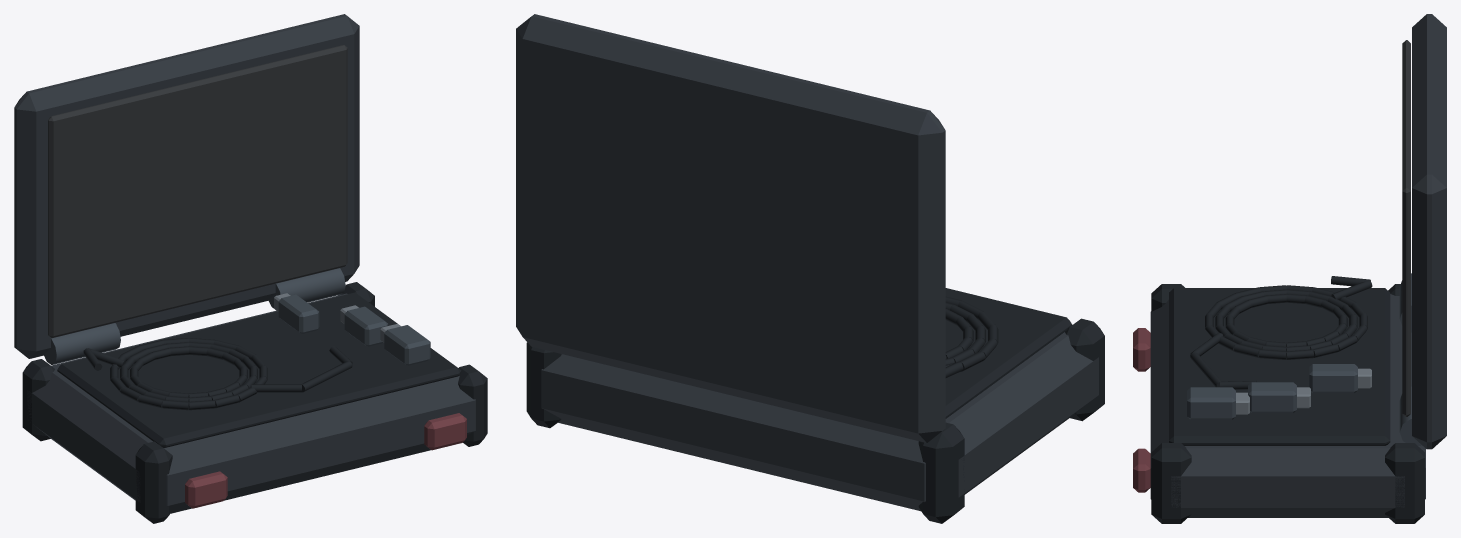
File: interface-kit.glb
3 renders of one model, left to right at view 1: azimuth 30°, elevation 25°; view 2: azimuth 150°, elevation 25°; view 3: azimuth 270°, elevation 25°, orthographic. The views are drawn at different scales.
Parts seen in each view (by area): view 1: interface-kit; view 2: interface-kit; view 3: interface-kit.
Part boxes in pixels (x1=…): interface-kit: x1=14, y1=14, x2=487, y2=523; interface-kit: x1=516, y1=14, x2=1104, y2=523; interface-kit: x1=1133, y1=14, x2=1446, y2=523.
Bounding box in the file's own units: 0.235 × 0.22 × 0.18.
